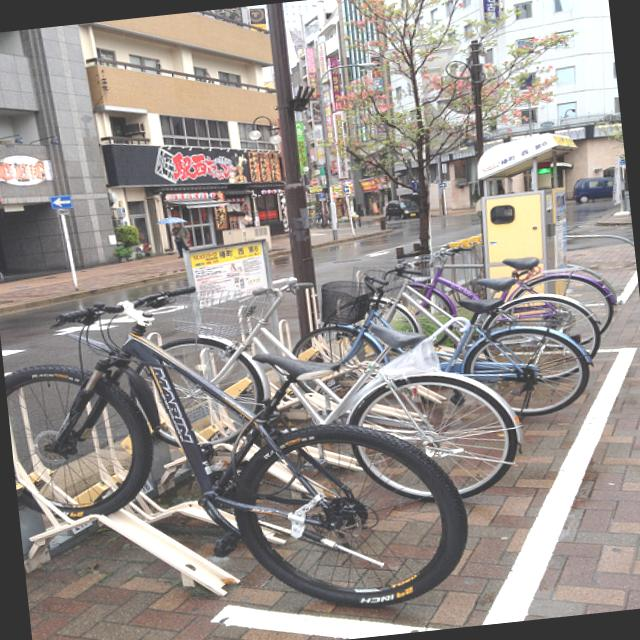Vehicle: (568, 174, 615, 204), (383, 197, 420, 221), (341, 212, 358, 220)
